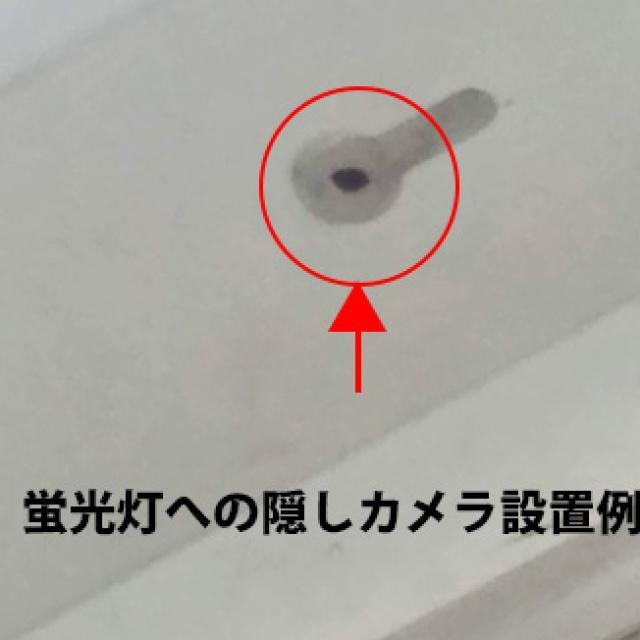hidden camera: (320, 161, 379, 200)
